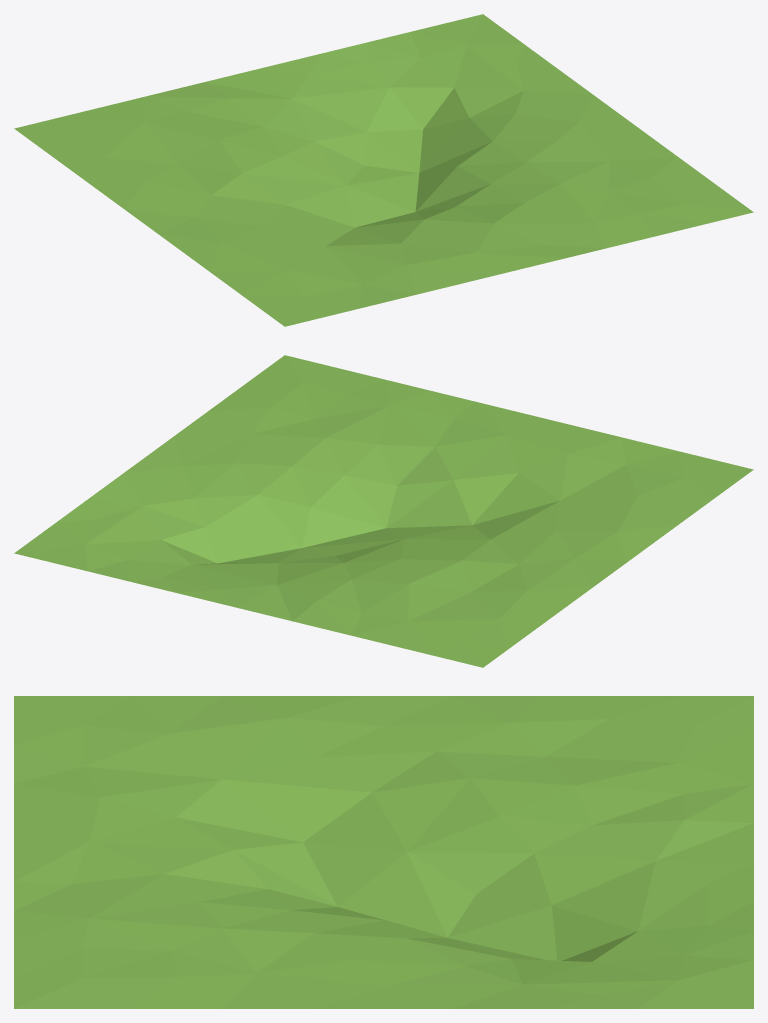
The model's file is MT_Terrain_S_b_10_LOD.fbx.
3 renders of one model, top to bottom at view 1: azimuth 30°, elevation 25°; view 2: azimuth 150°, elevation 25°; view 3: azimuth 270°, elevation 25°, orthographic. The views are drawn at different scales.
Parts seen in each view (by area): view 1: MT_Terrain_S_b_10_LOD0; view 2: MT_Terrain_S_b_10_LOD0; view 3: MT_Terrain_S_b_10_LOD0.
Part boxes in pixels (<box>): MT_Terrain_S_b_10_LOD0: <box>14,14,753,326</box>; MT_Terrain_S_b_10_LOD0: <box>14,355,753,667</box>; MT_Terrain_S_b_10_LOD0: <box>14,696,753,1008</box>.
Size of what is drawn, in the model's own units: 2500 by 184 by 2500.
